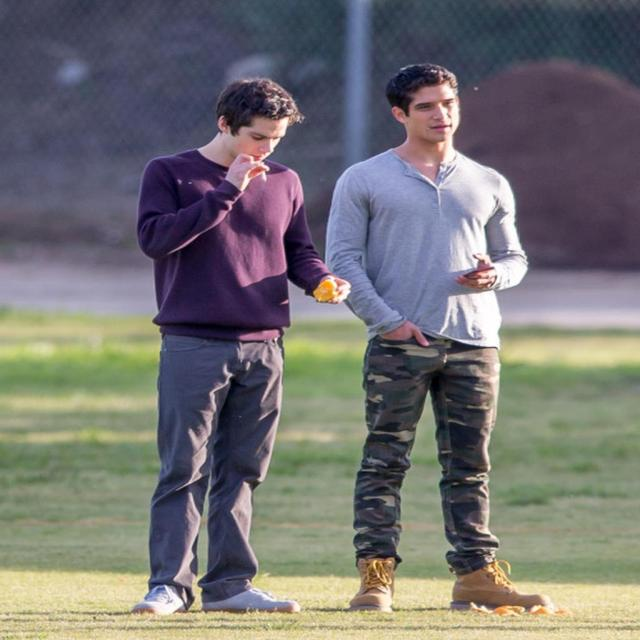smoking: (204, 66, 304, 189)
